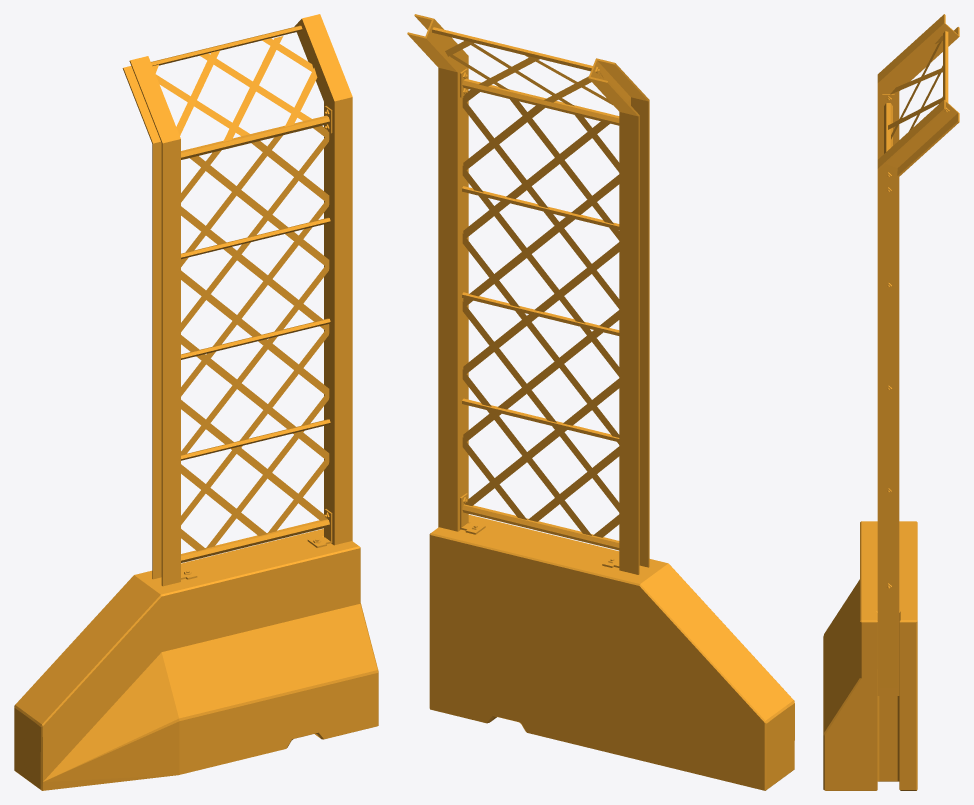
The model's file is SM_Fence_Road_Debrisguard_Net_2m_L.fbx.
3 views of the same model, side by side, from view 1: azimuth 30°, elevation 25°; view 2: azimuth 150°, elevation 25°; view 3: azimuth 270°, elevation 25° (orthographic). The views are drawn at different scales.
Visible parts, largest first — view 1: SM_Fence_Road_Debrisguard_Net_2m_End_Female; view 2: SM_Fence_Road_Debrisguard_Net_2m_End_Female; view 3: SM_Fence_Road_Debrisguard_Net_2m_End_Female.
Part boxes in pixels (x1=…): SM_Fence_Road_Debrisguard_Net_2m_End_Female: x1=14, y1=14, x2=378, y2=790; SM_Fence_Road_Debrisguard_Net_2m_End_Female: x1=407, y1=14, x2=794, y2=790; SM_Fence_Road_Debrisguard_Net_2m_End_Female: x1=823, y1=14, x2=959, y2=790.
Bounding box in the file's own units: 2 × 4 × 0.7223.
